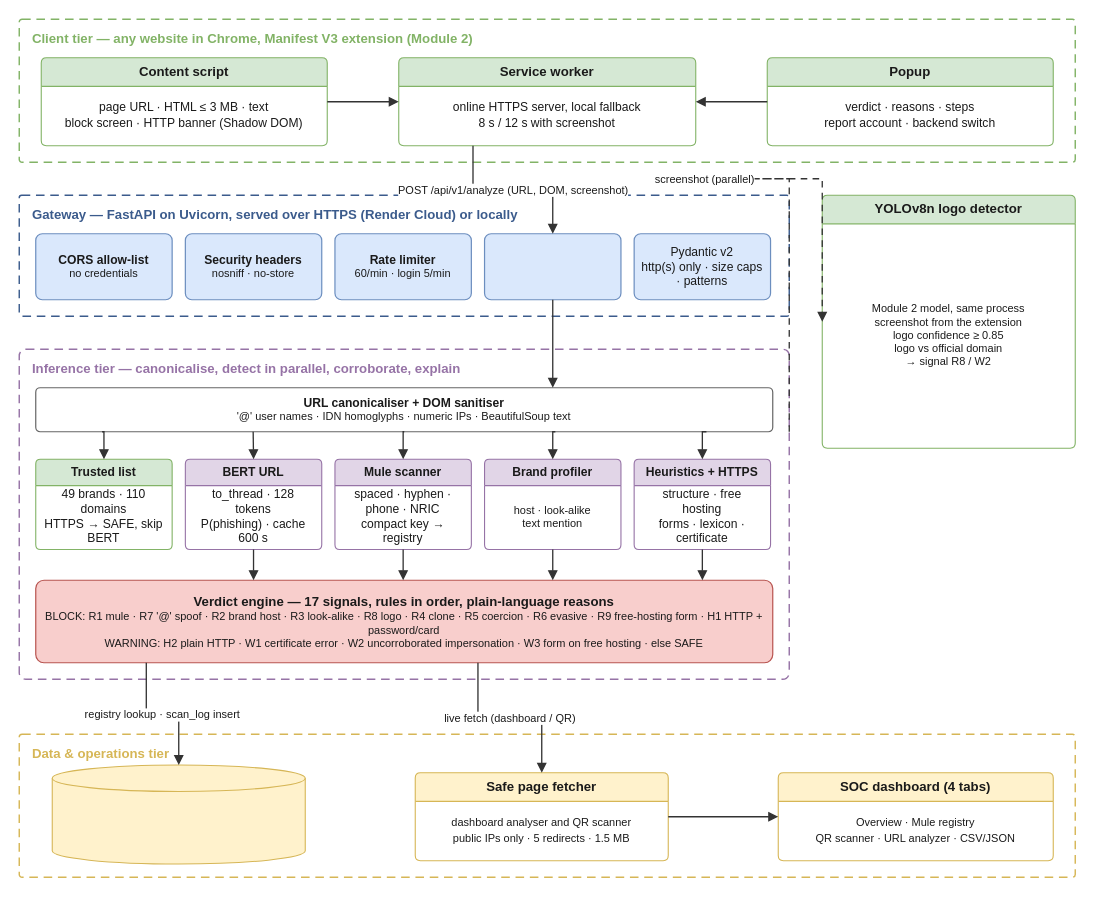
This 1096x898 diagram has some shape labels left out. Each missing label, with the centre of its shape:
Authentication API key · admin session: point 552,266
SQLite (WAL, FK on) mule_registry · mule_reports scan_log (every verdict): point 178,814
